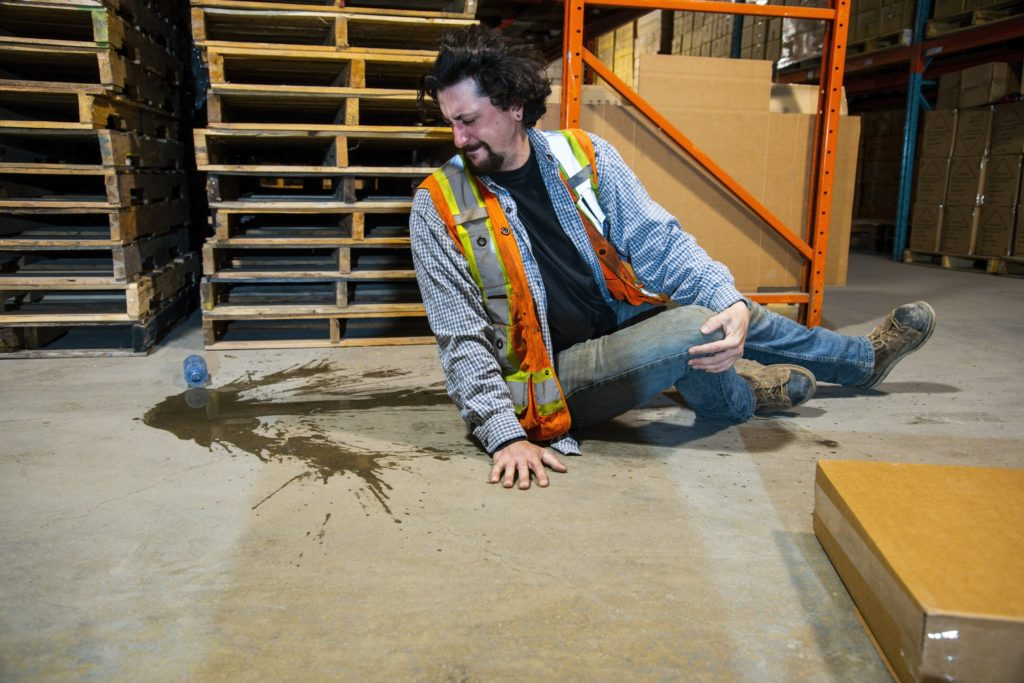unusual: (79, 40, 950, 444)
